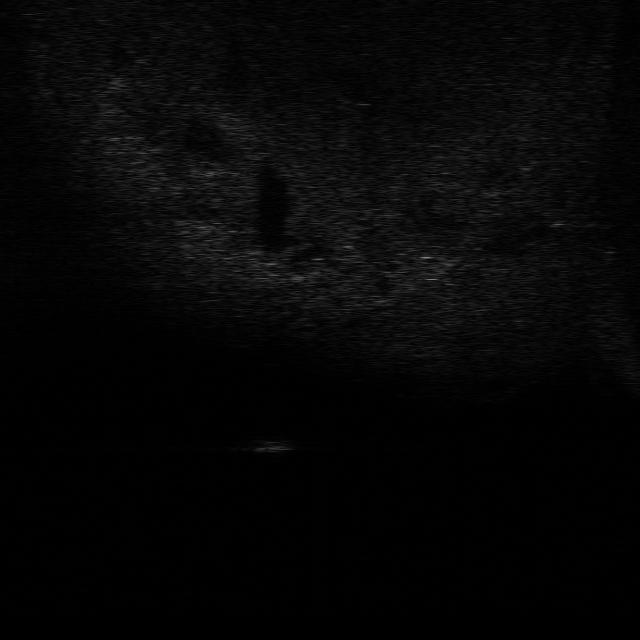cube: (252, 435, 298, 454)
